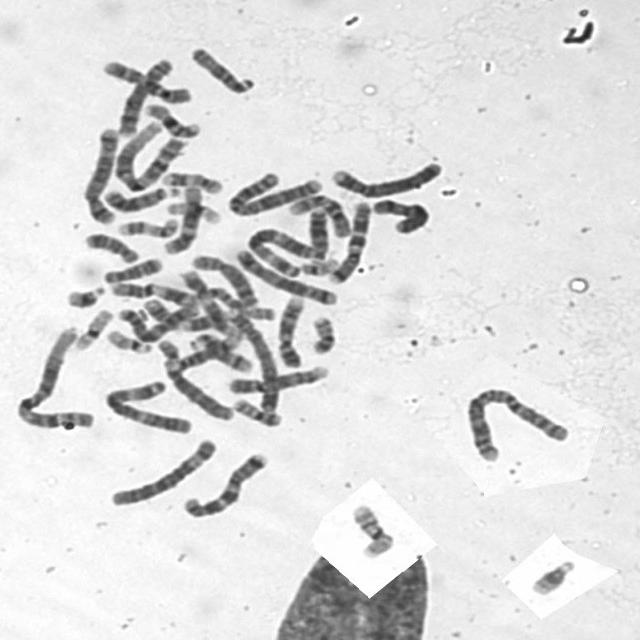A1: (8, 322, 98, 432), (110, 117, 189, 194)
A2: (460, 381, 572, 463), (223, 167, 325, 217)
A3: (100, 376, 197, 436), (241, 224, 317, 278)
B4: (221, 305, 281, 417), (326, 156, 447, 198)
B5: (232, 245, 341, 307), (78, 122, 122, 225)
C10: (96, 55, 194, 106), (284, 190, 355, 239)
C11: (141, 296, 228, 335), (107, 277, 202, 308)
C12: (175, 266, 242, 341), (159, 181, 205, 255)
C6: (105, 433, 220, 508), (153, 335, 238, 423)
C7: (177, 448, 271, 519), (322, 197, 374, 286)
C8: (113, 54, 177, 138), (187, 250, 262, 309)
C9: (222, 360, 330, 395), (272, 291, 307, 369)
D13: (100, 182, 181, 212), (306, 206, 330, 265)
D14: (172, 330, 246, 374), (187, 329, 256, 375)
D15: (186, 41, 259, 96), (196, 285, 279, 323)
E16: (347, 500, 397, 560), (139, 99, 202, 139)
E17: (156, 167, 225, 196), (113, 213, 182, 240)
E18: (80, 227, 142, 265), (100, 254, 165, 284)
F19: (71, 304, 115, 351), (161, 197, 222, 226)
F20: (227, 394, 284, 428), (306, 312, 339, 356)
G21: (525, 554, 579, 597), (61, 281, 108, 310)
G22: (101, 326, 155, 356), (296, 254, 341, 276)
X: (115, 299, 203, 343), (369, 194, 436, 236)
